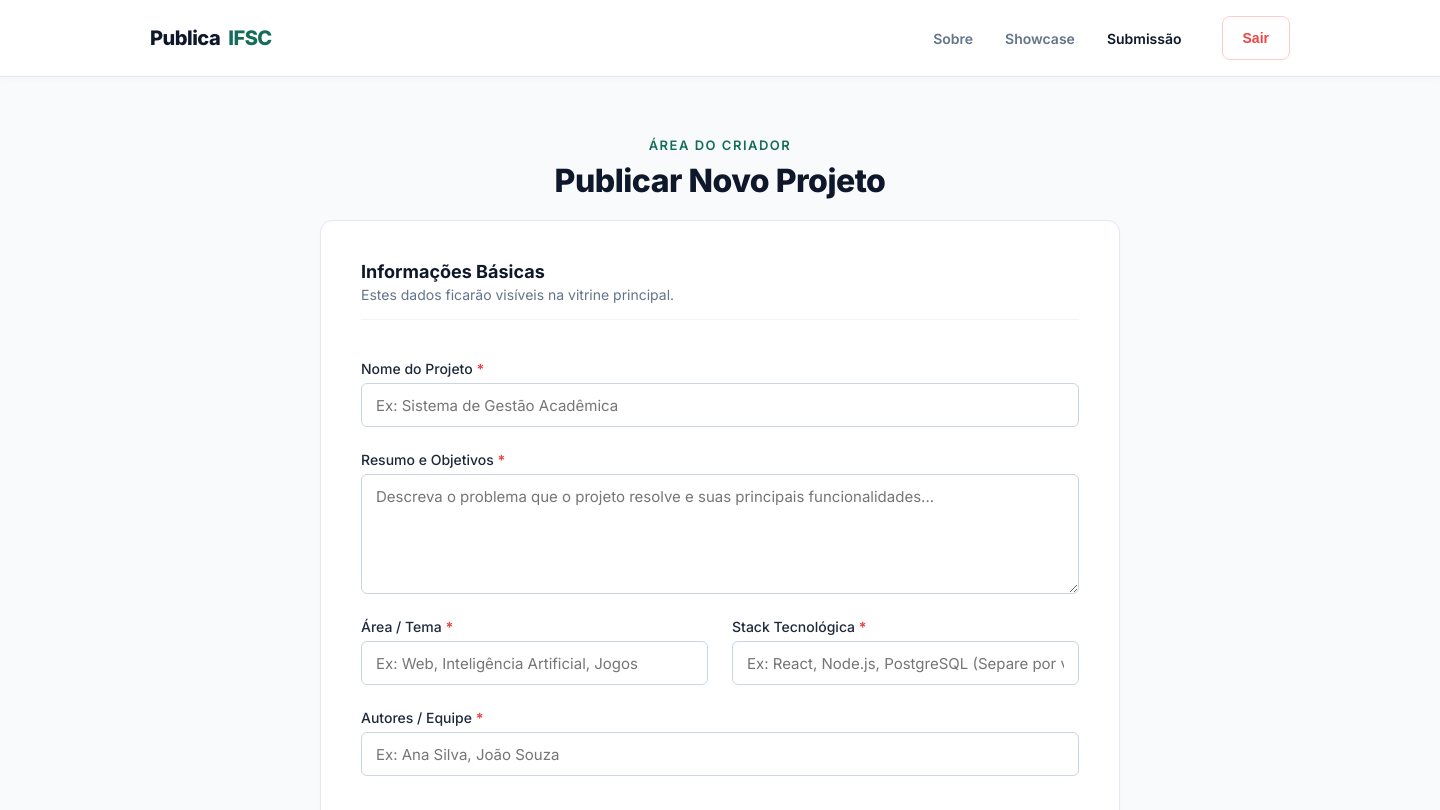
Test: Submissão de projeto › mostra o erro da API quando os metadados não são salvos
This screenshot has width=1440, height=810.
Type "Projeto Teste" into the field labelled "Nome do Projeto *".
click(720, 405); type("Projeto Teste")  # box [361, 383, 1079, 427]
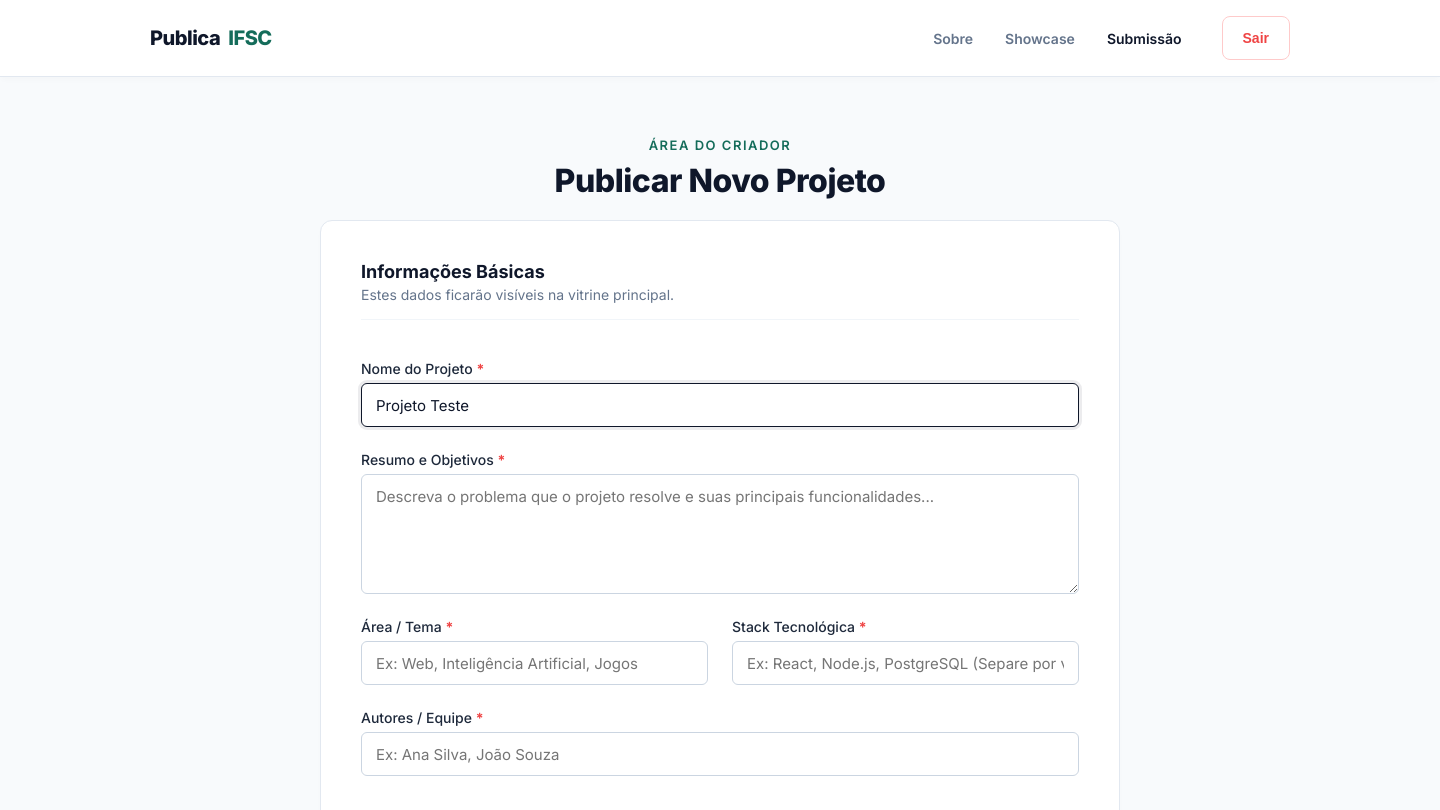
Type "Resumo do projeto" into the text box labelled "Resumo e Objetivos *".
click(720, 534); type("Resumo do projeto")  # box [361, 474, 1079, 594]
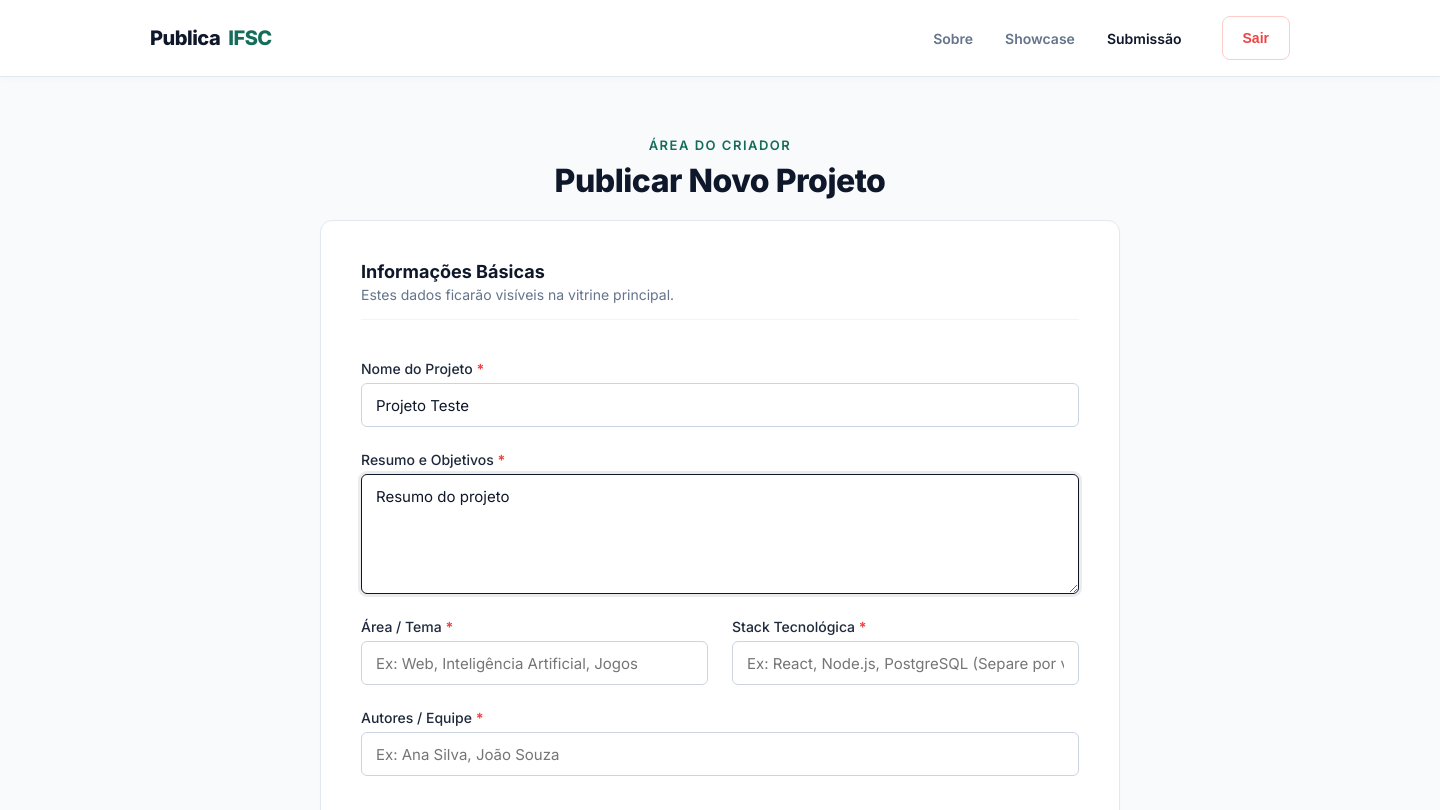
Type "Web" into the field labelled "Área / Tema *".
click(534, 663); type("Web")  # box [361, 641, 708, 685]
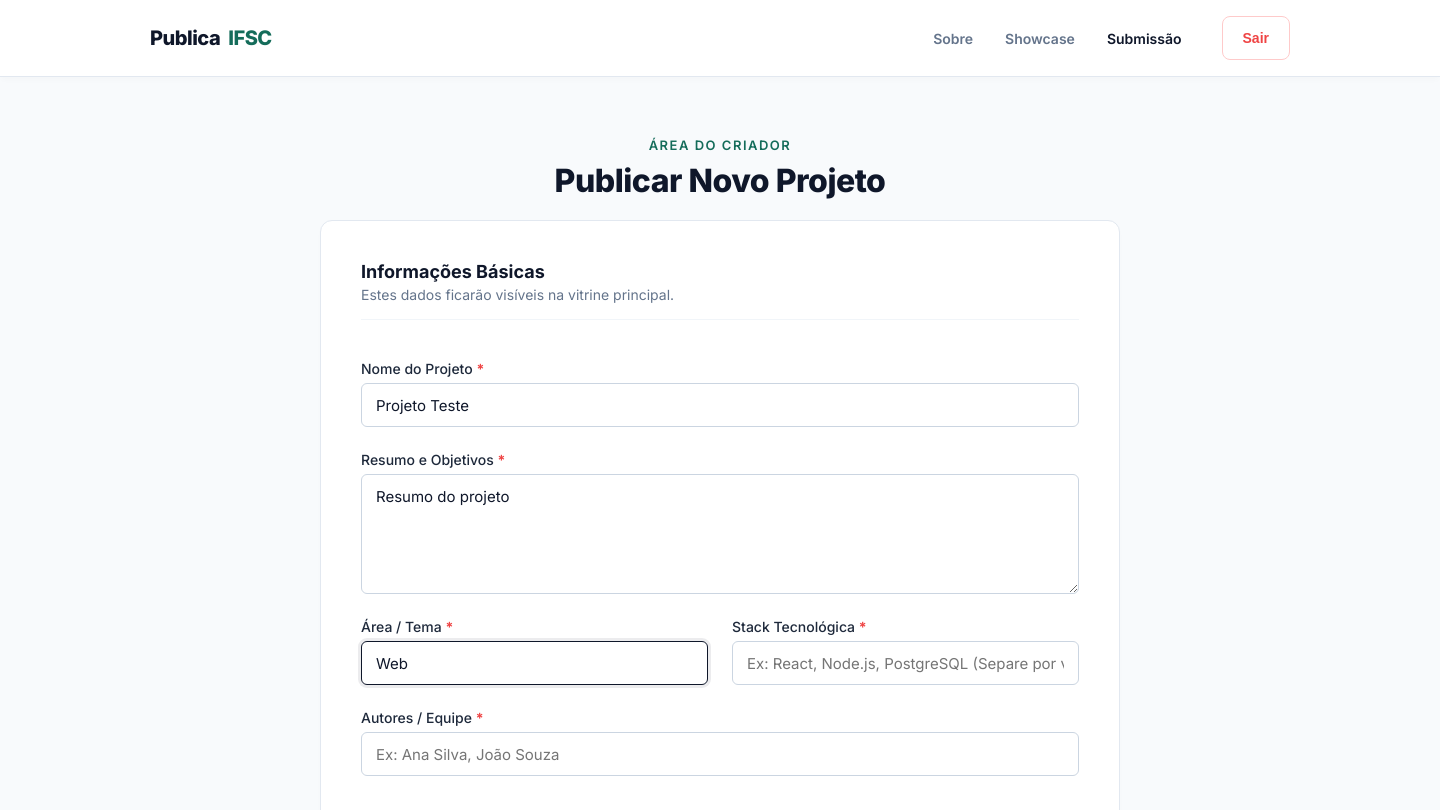
Type "Ana Lima, Bruno Reis" into the field labelled "Autores / Equipe *".
click(720, 754); type("Ana Lima, Bruno Reis")  # box [361, 732, 1079, 776]
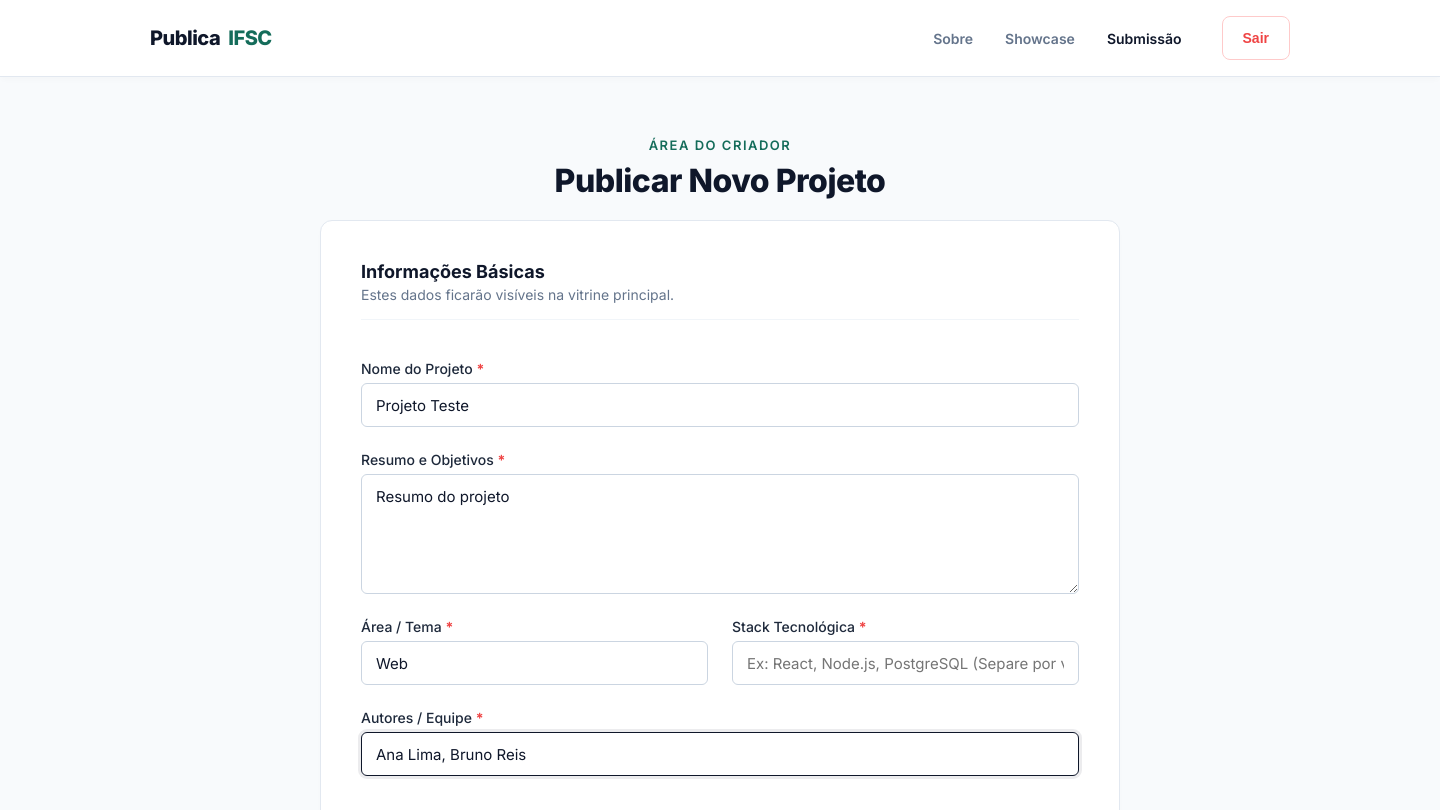
Type "React, Spring Boot" into the field labelled "Stack Tecnológica *".
click(906, 663); type("React, Spring Boot")  # box [732, 641, 1079, 685]
(page scrolled)
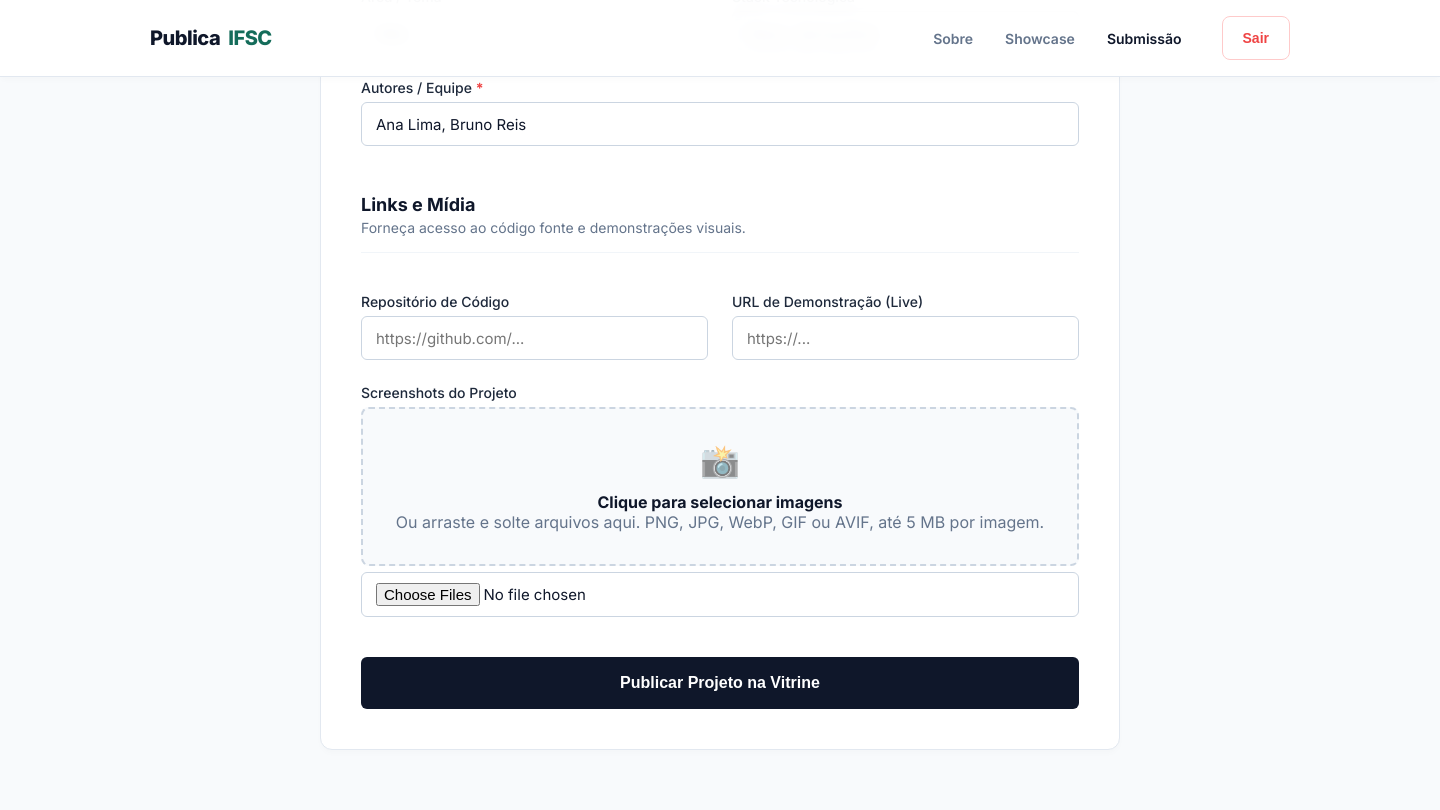
Click the button "Publicar Projeto na Vitrine".
click(720, 683)  # box [361, 657, 1079, 709]
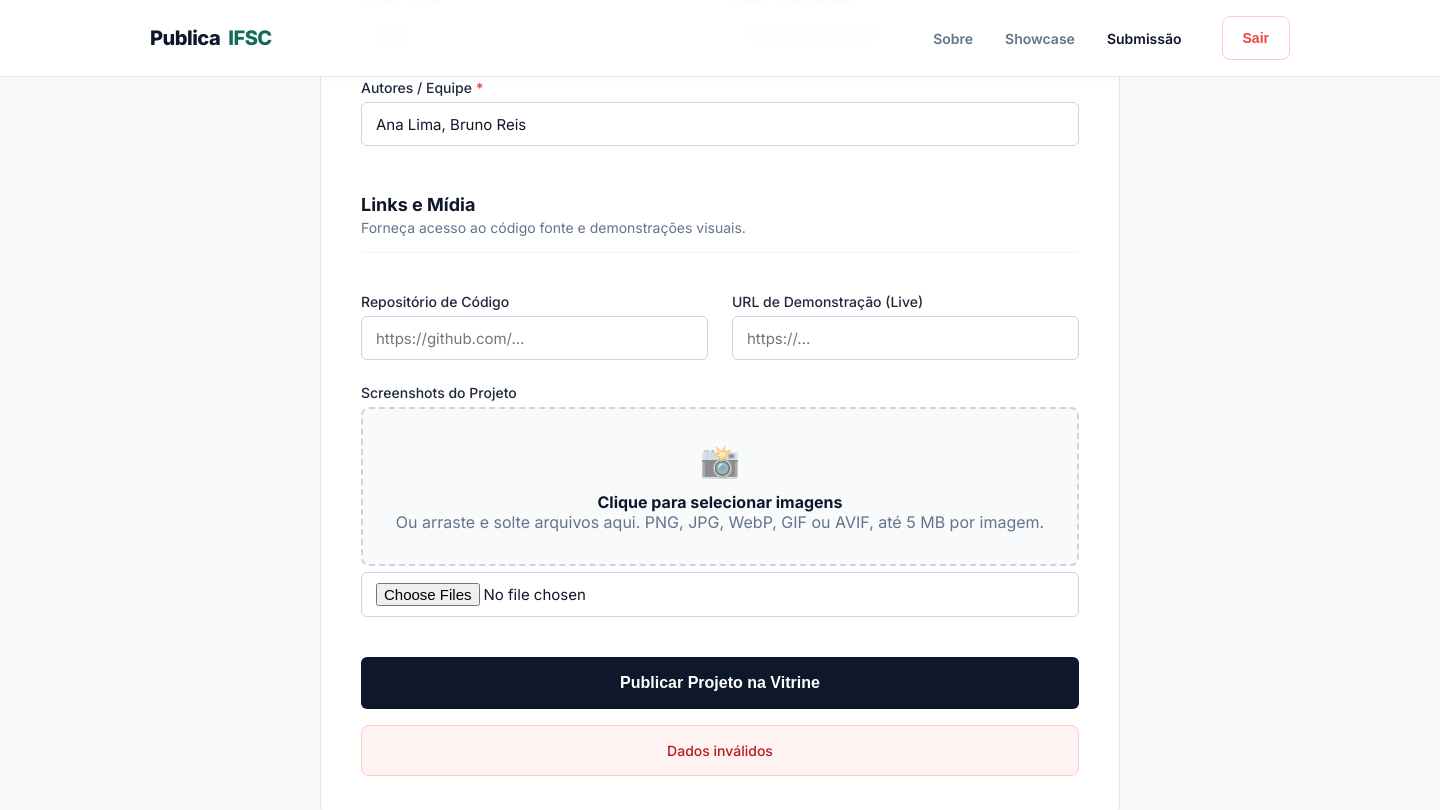
Now the text "Dados inválidos" is shown, box [361, 725, 1079, 776]
